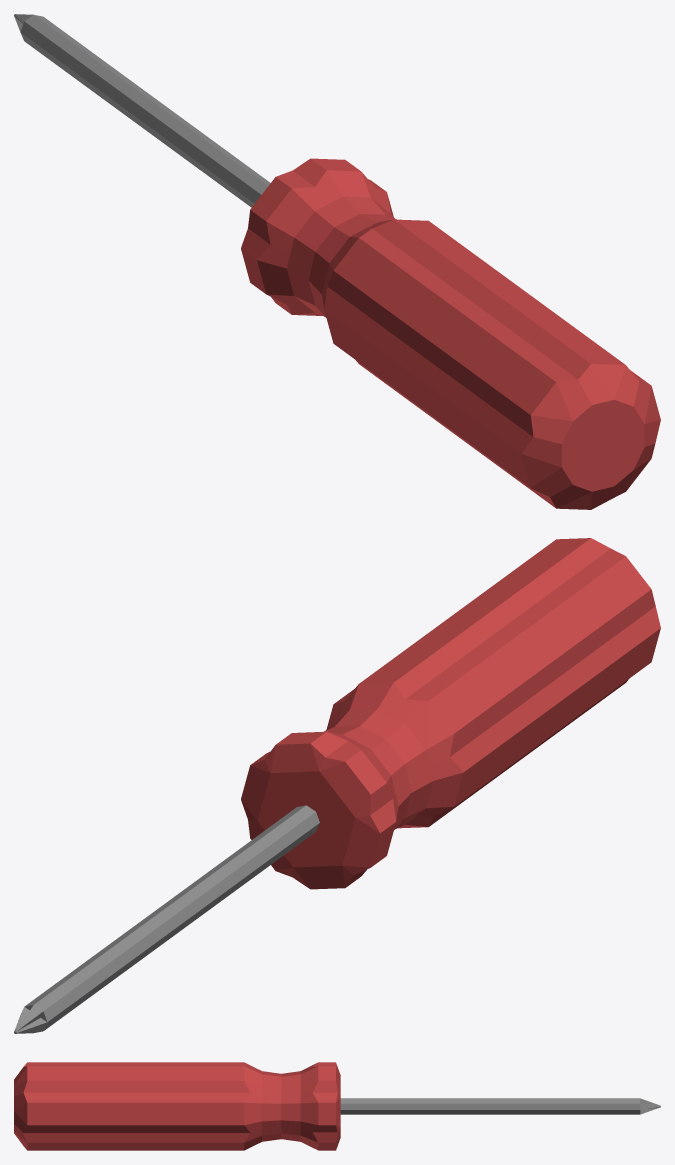
Rendered from Screwdriver.fbx.
The picture shows the model from 3 angles, top to bottom: view 1: azimuth 30°, elevation 25°; view 2: azimuth 150°, elevation 25°; view 3: azimuth 270°, elevation 25°; orthographic projection. The views are drawn at different scales.
Visible parts, largest first — view 1: Screwdriver; view 2: Screwdriver; view 3: Screwdriver.
Boxes of the visible parts, left/top/right/bottom form: Screwdriver: left=14, top=14, right=660, bottom=509; Screwdriver: left=14, top=538, right=660, bottom=1033; Screwdriver: left=14, top=1062, right=660, bottom=1150.
Size of the model in its own units: 5.91 by 5.91 by 43.16.
